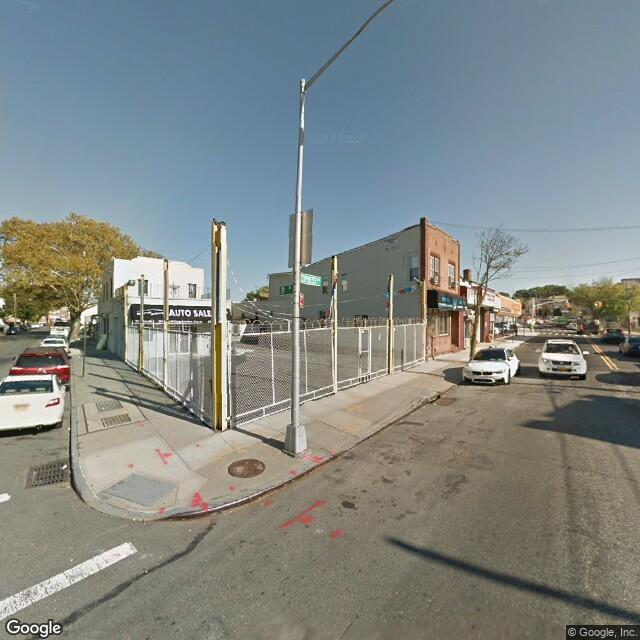litter: (55, 461, 77, 474), (64, 423, 77, 433)
